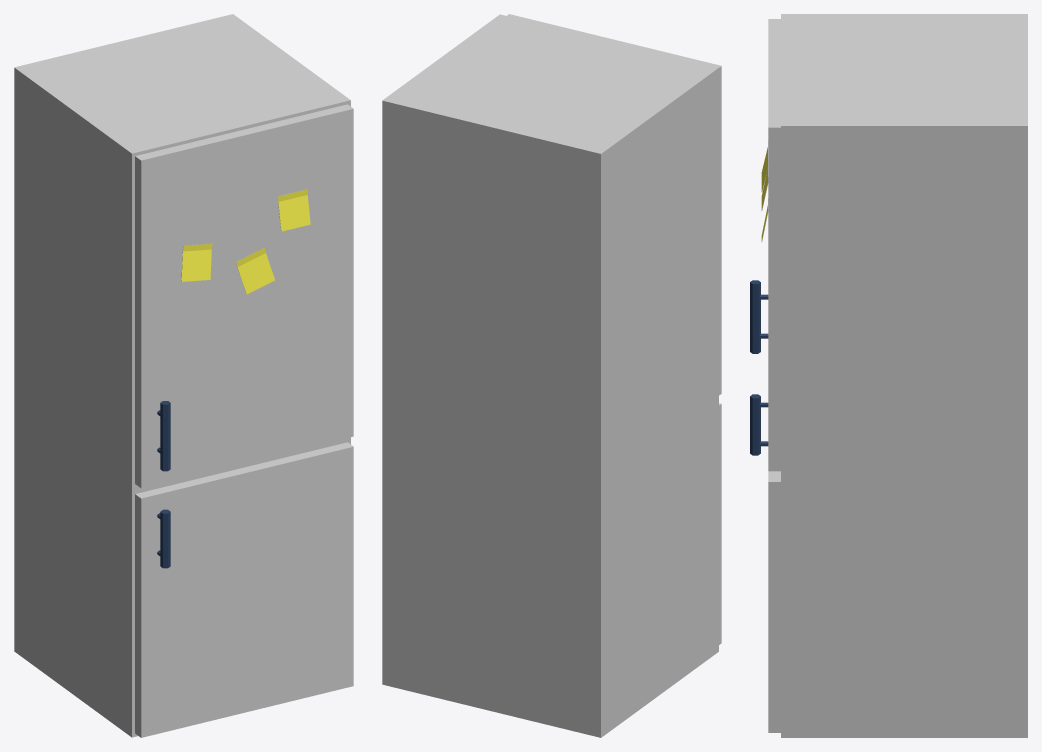
Rendered from Fridge.fbx.
3 views of the same model, side by side, from view 1: azimuth 30°, elevation 25°; view 2: azimuth 150°, elevation 25°; view 3: azimuth 270°, elevation 25° (orthographic). The views are drawn at different scales.
Visible parts, largest first — view 1: Refrigerator; view 2: Refrigerator; view 3: Refrigerator.
Boxes of the visible parts, x1,y1,x2,y2 form: Refrigerator: [14, 14, 353, 737]; Refrigerator: [382, 14, 721, 737]; Refrigerator: [750, 14, 1027, 737].
Size of the model in its own units: 142 by 362 by 149.
